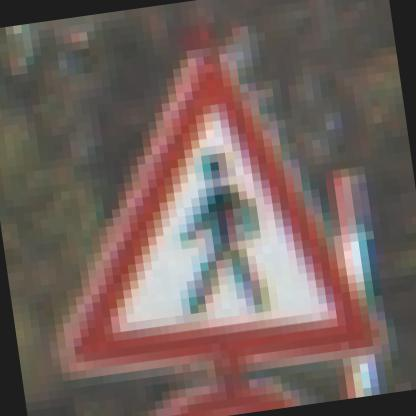crosswalk: (61, 42, 389, 412)
